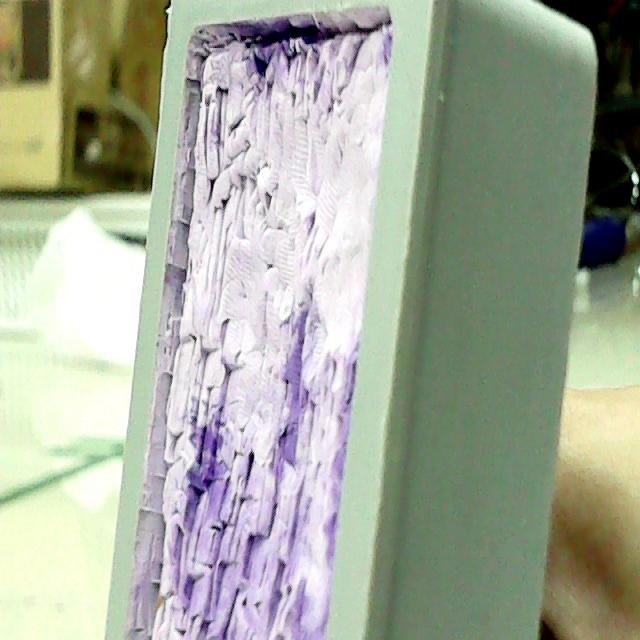block: (101, 0, 594, 639)
